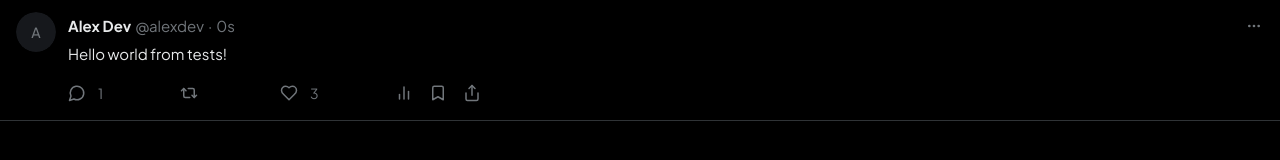
Scenario: PostCard — like interactions › optimistically increments like count on click
The image size is (1280, 160).
Click the button with class "like" at (296, 93), box top-left (274, 78), bottom-right (318, 108)
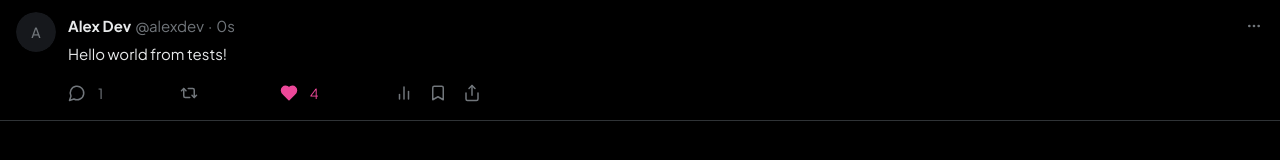
Expected: the button with class "like" reads "4", top-left (274, 78), bottom-right (319, 108)
